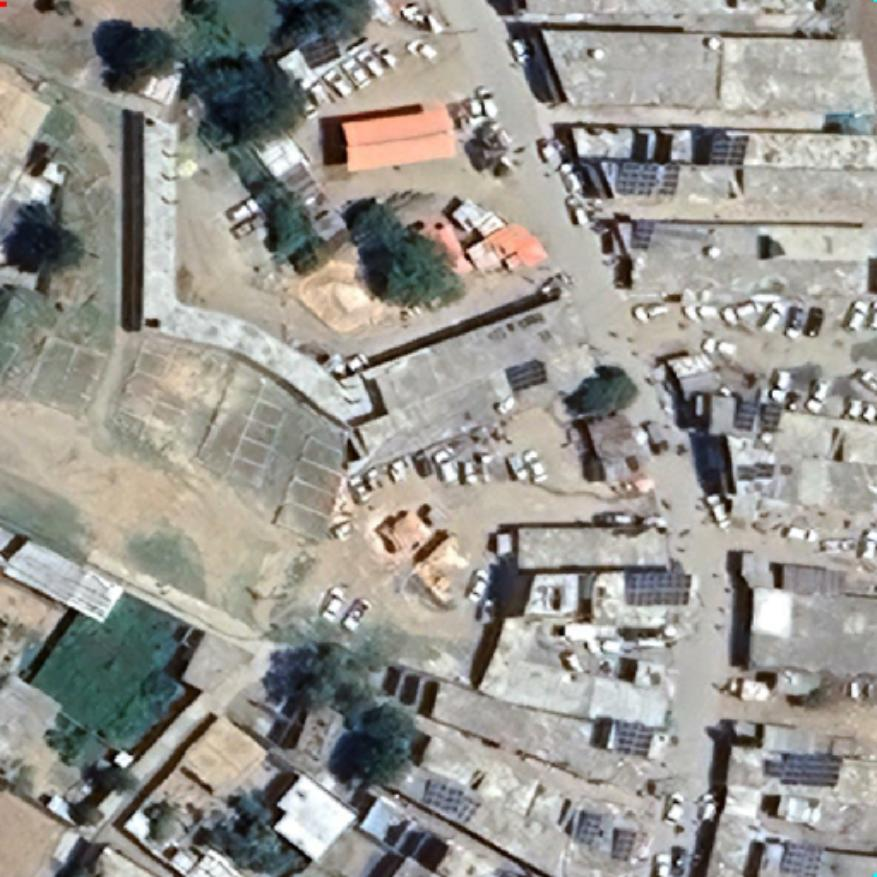Solarpanel: (420, 774, 485, 828), (774, 750, 844, 788), (624, 569, 692, 607), (615, 159, 681, 197), (732, 398, 785, 438), (502, 355, 552, 395), (296, 29, 340, 73), (615, 719, 655, 757), (780, 843, 824, 877), (707, 133, 749, 168), (575, 812, 604, 846), (610, 828, 637, 861), (630, 218, 657, 250), (734, 462, 772, 483)
